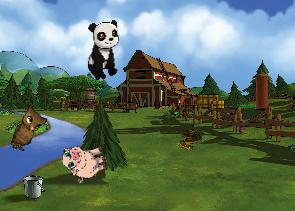owl: (9, 103, 50, 156)
panda: (87, 20, 120, 80)
pig: (59, 136, 110, 185)
